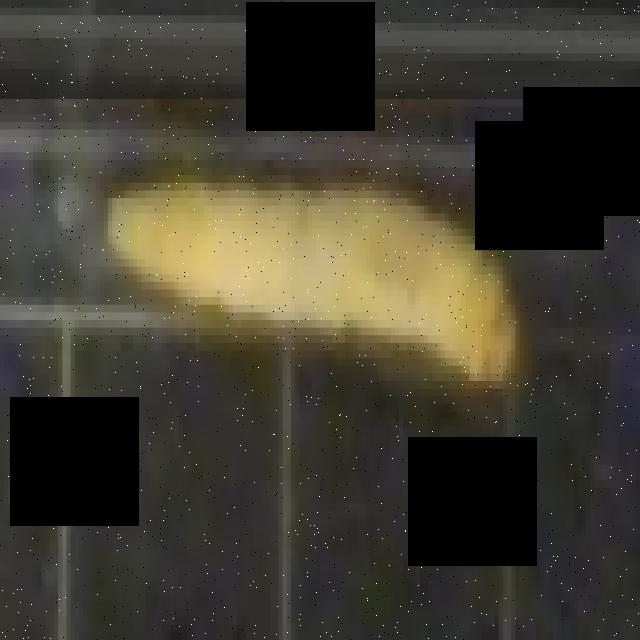larva: (103, 177, 526, 399)
